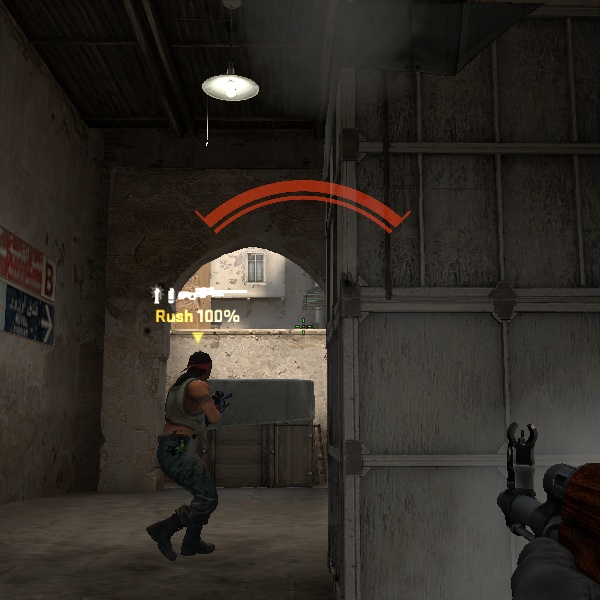t_body: (165, 350, 221, 523)
t_head: (185, 350, 212, 381)
